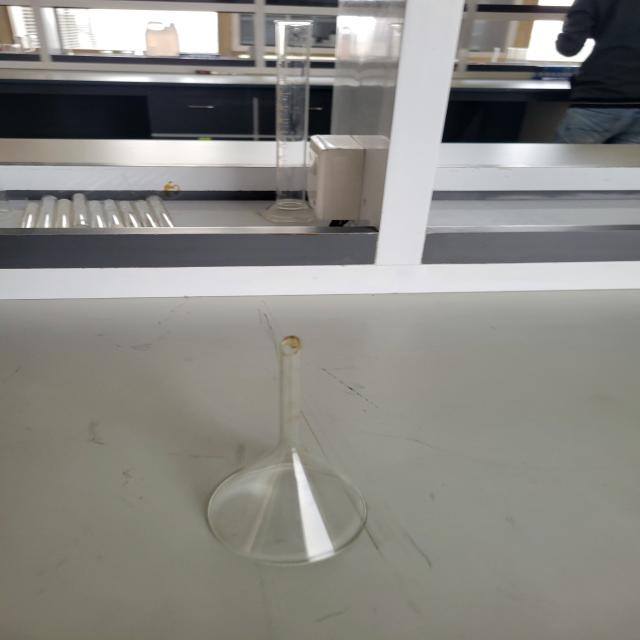Funnel: (168, 314, 400, 594)
